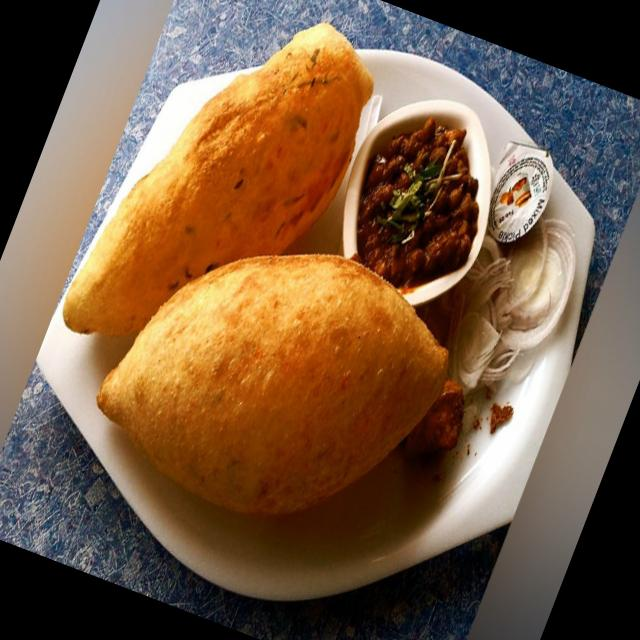Bhatura: (76, 192, 473, 564), (55, 0, 393, 402)
Chole: (331, 100, 512, 306)
